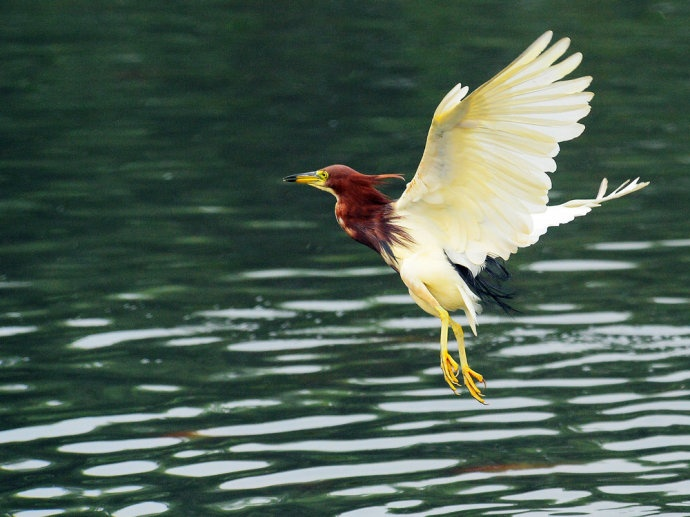bird: (272, 27, 648, 402)
